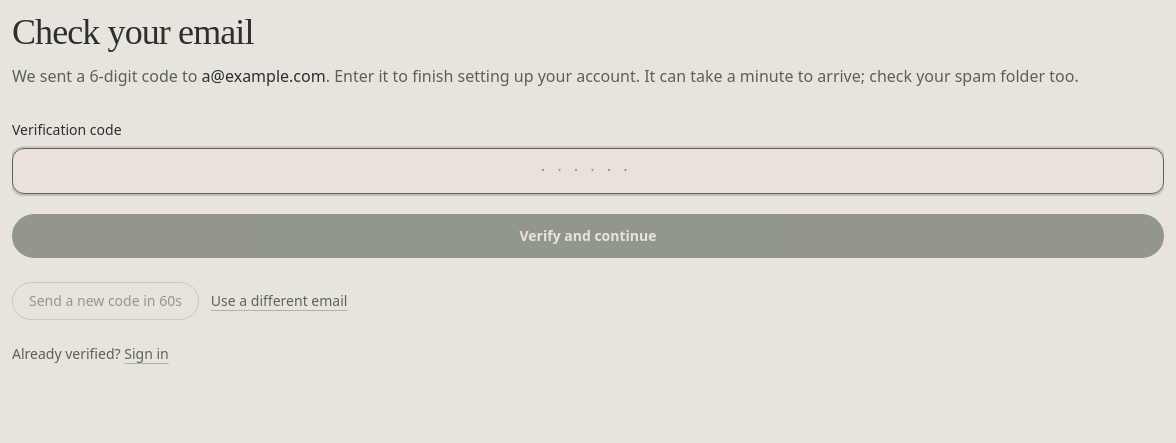
VerifyEmailForm › explains a OTP_EXPIRED failure and stays on the form
The width and height of the screenshot is (1176, 443).
Type "000000" into the field labelled "Verification code".
click(588, 171); type("000000")  # box [12,148,1164,194]
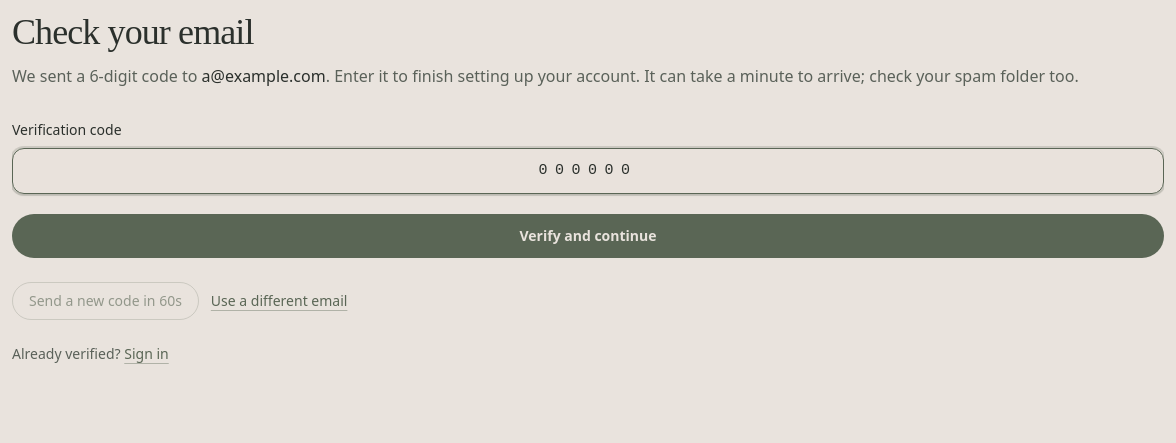
Click the button "Verify and continue".
click(588, 236)  # box [12,214,1164,258]
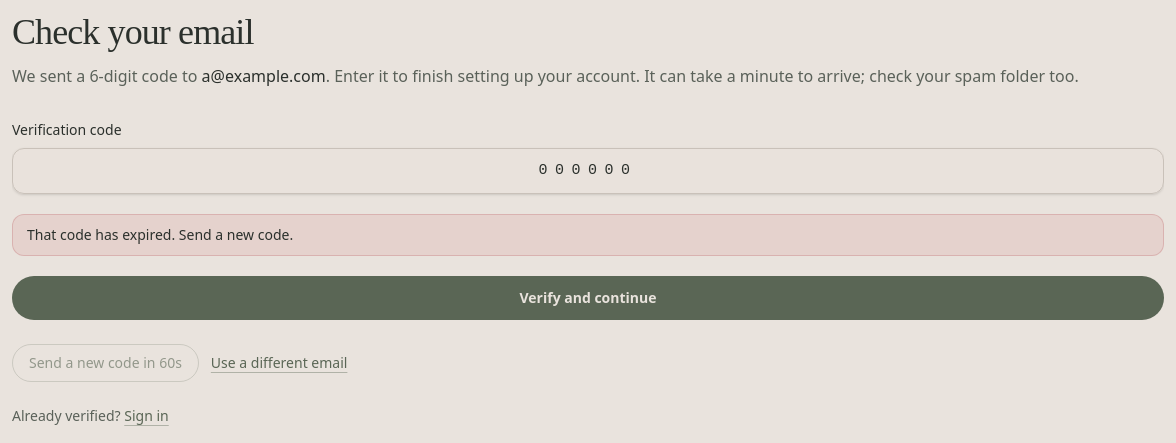
Expected: the message shows "expired", [27,225,293,244]
